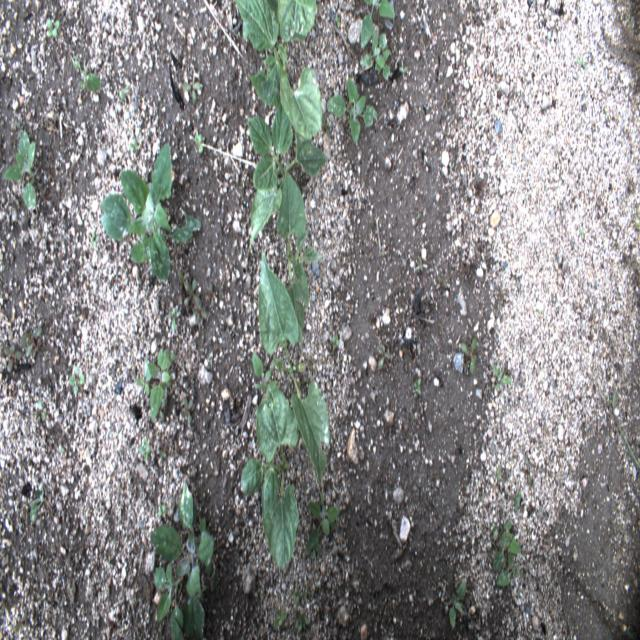crop: (258, 244, 330, 491), (235, 0, 323, 141), (241, 378, 300, 574), (247, 104, 331, 241), (276, 174, 321, 350)
weed: (99, 142, 202, 282), (149, 479, 216, 638), (327, 75, 377, 148), (1, 127, 38, 214), (360, 0, 396, 81), (490, 514, 522, 585), (302, 497, 340, 555), (146, 350, 174, 422), (68, 55, 105, 94), (448, 579, 470, 633), (249, 351, 276, 393), (64, 361, 90, 404), (27, 479, 52, 523), (15, 330, 46, 362), (181, 70, 208, 102), (460, 333, 480, 376), (488, 364, 514, 395), (1, 337, 20, 376), (180, 272, 201, 306), (176, 394, 196, 426), (474, 164, 488, 208), (376, 340, 394, 374), (34, 394, 50, 432), (165, 308, 184, 340), (10, 608, 34, 633), (192, 299, 213, 326), (521, 455, 537, 490), (410, 362, 425, 398), (206, 274, 221, 309), (271, 603, 289, 630), (292, 580, 310, 606), (45, 15, 61, 42), (514, 482, 526, 518), (414, 248, 429, 275), (190, 133, 205, 159), (327, 7, 342, 32), (140, 437, 154, 463), (493, 462, 505, 492), (437, 272, 450, 297), (128, 134, 142, 156), (294, 616, 311, 634), (92, 233, 107, 252), (329, 332, 344, 351), (118, 87, 134, 103), (399, 60, 408, 80), (576, 56, 587, 69), (378, 247, 390, 258), (578, 226, 586, 240)
